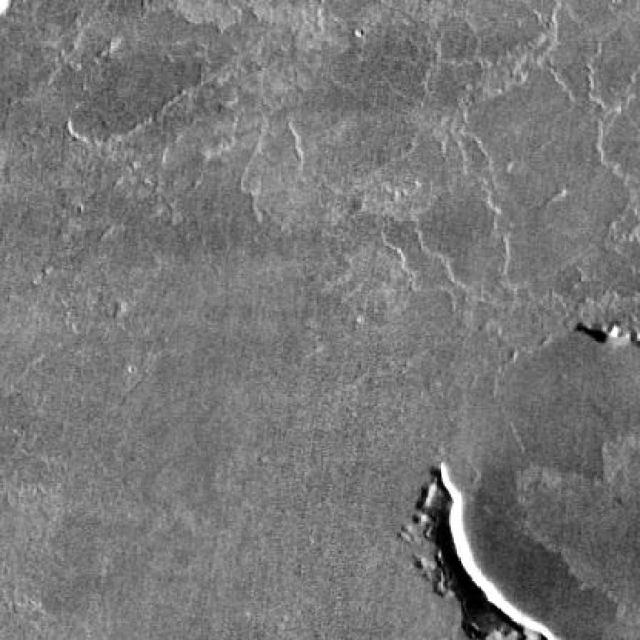crater: (432, 341, 639, 640)
